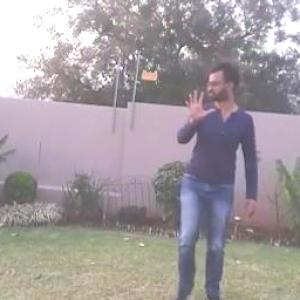follow_hand: (182, 86, 216, 123)
